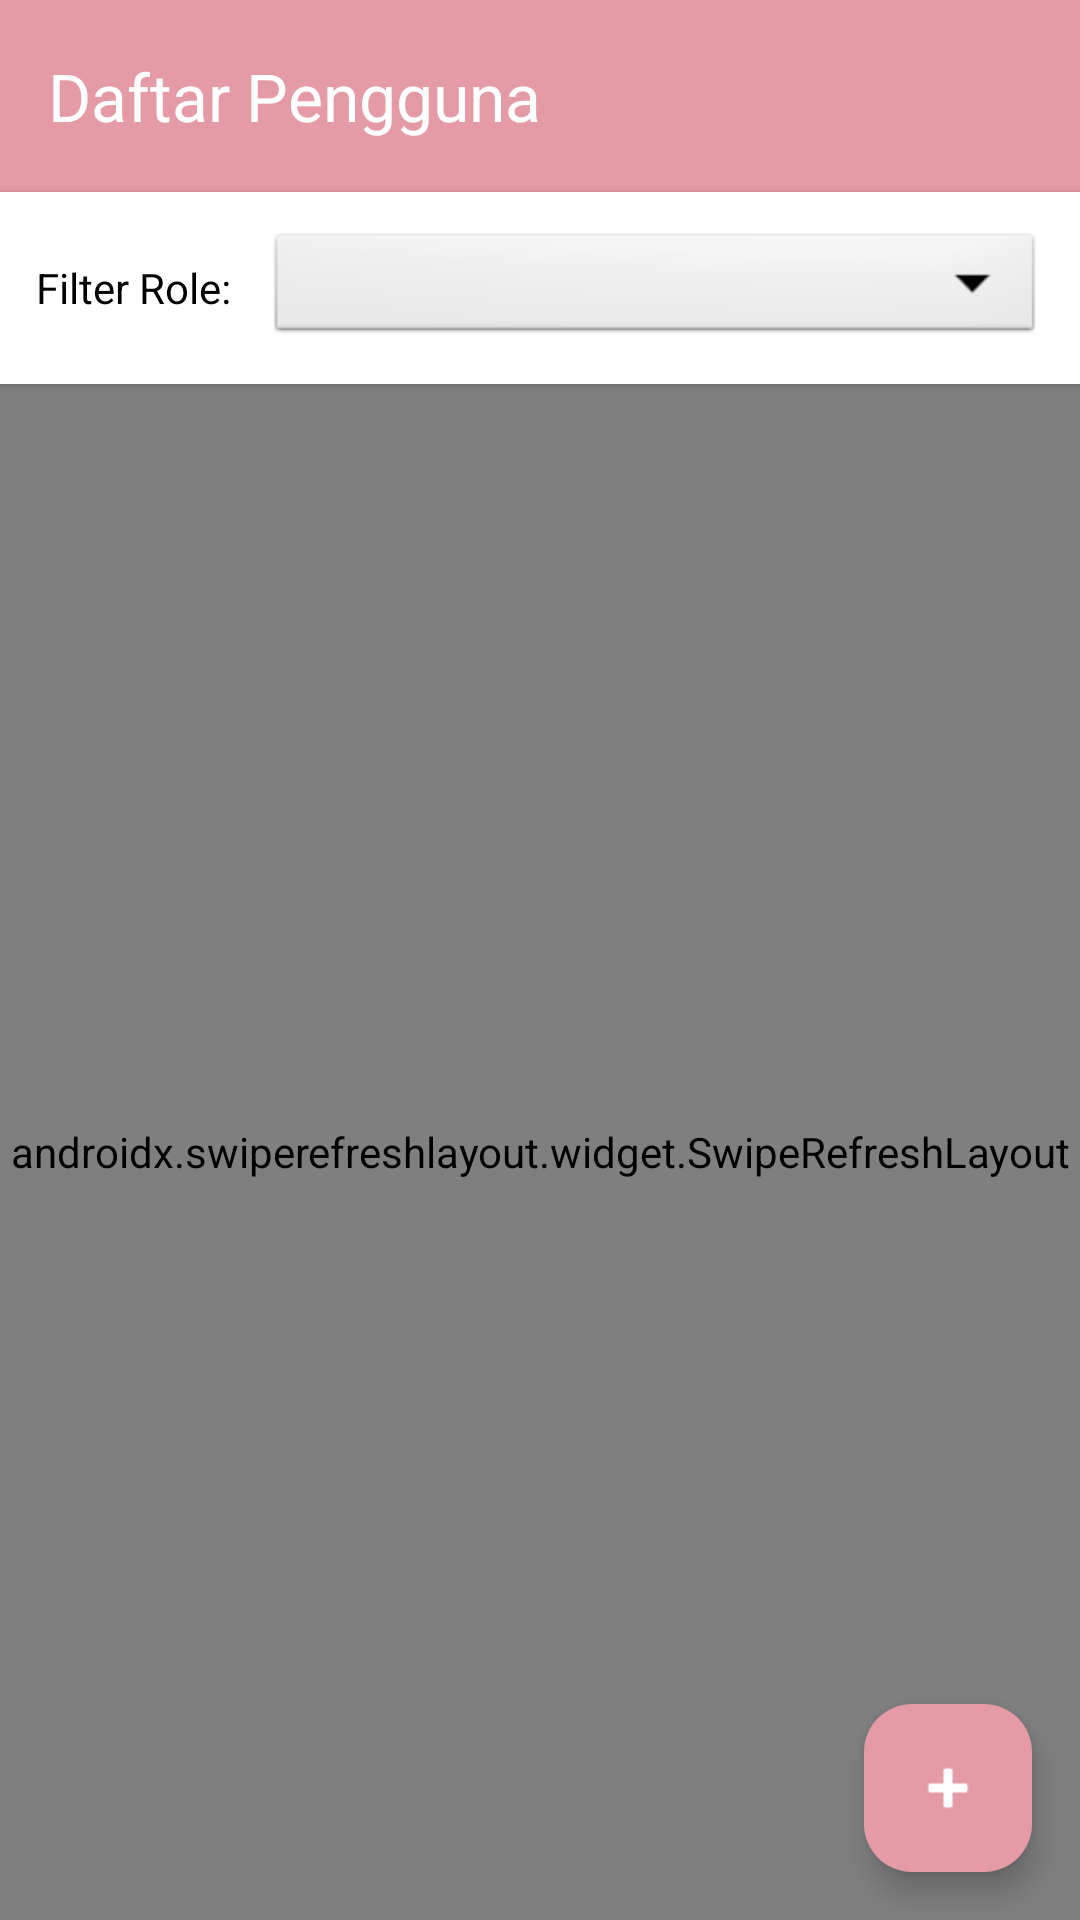

Icon bounding boxes for this 1080px x 1920px phone screenshot, format (x1, y1, x2, y2):
Tambah Pengguna: (864, 1704, 1032, 1872)
